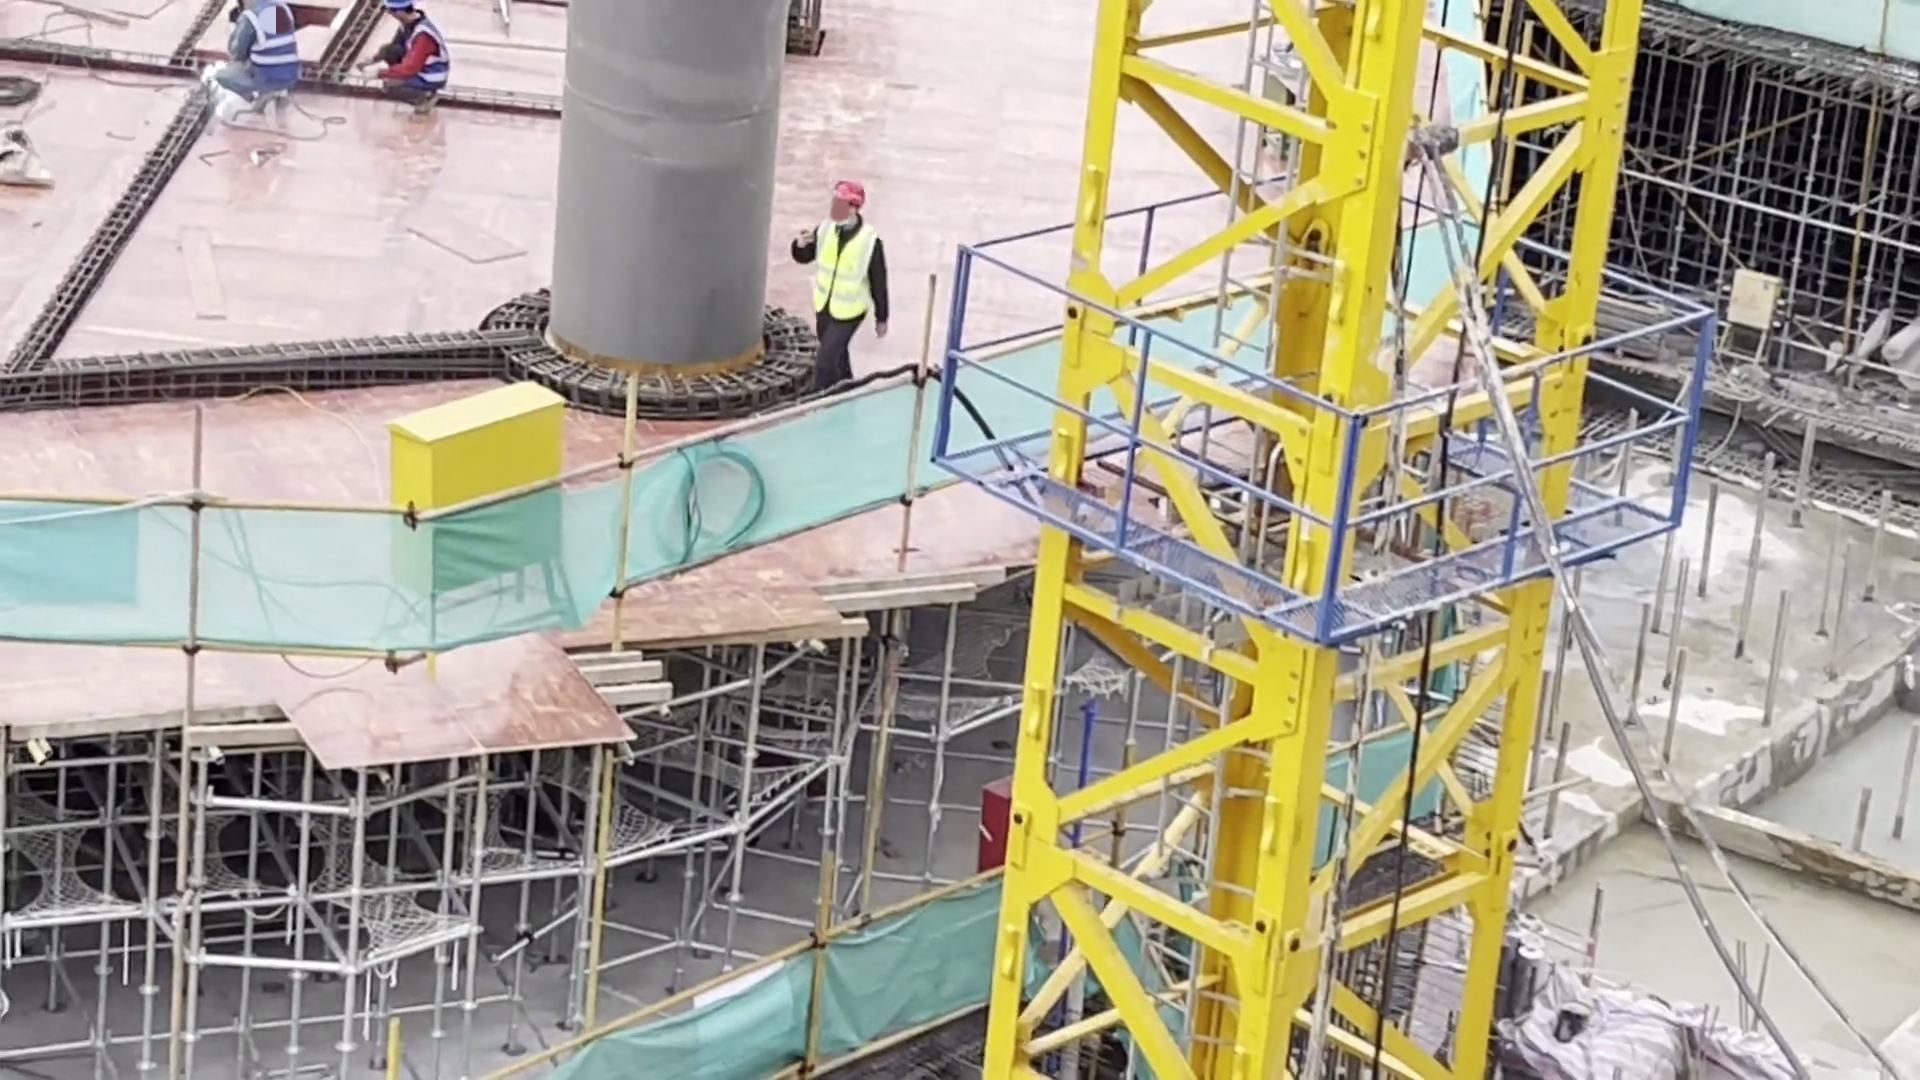helmet: (833, 178, 868, 207), (384, 1, 413, 8)
person: (789, 186, 897, 377), (368, 1, 457, 121), (220, 1, 297, 121)
vest: (819, 215, 875, 331), (226, 1, 299, 84), (395, 19, 453, 89)
